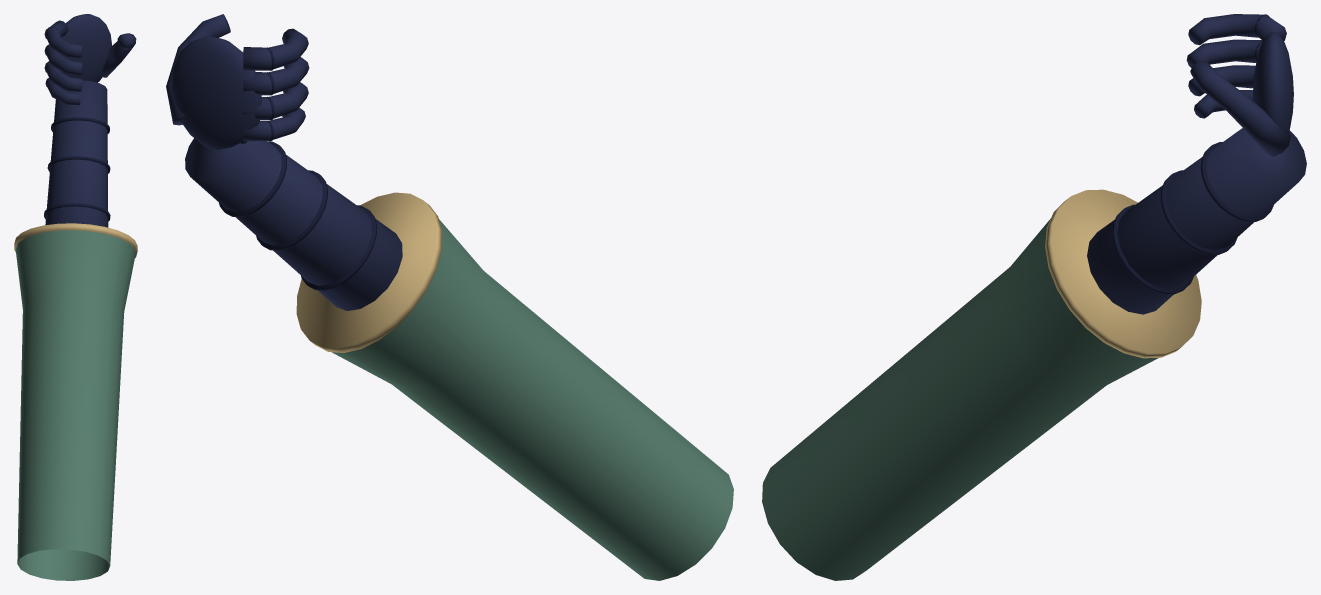
Rendered from omar_gloves.glb.
3 renders of one model, left to right at view 1: azimuth 30°, elevation 25°; view 2: azimuth 150°, elevation 25°; view 3: azimuth 270°, elevation 25°, orthographic. The views are drawn at different scales.
Visible parts, largest first — view 1: OmarGloves_Sleeve, OmarGloves_Gauntlet, OmarGloves_Palm, OmarGloves_SleeveEdge, OmarGloves_Finger0, OmarGloves_Thumb, OmarGloves_Finger1, OmarGloves_Finger2, OmarGloves_Finger3, OmarGloves_GauntletSeam2, OmarGloves_GauntletSeam1, OmarGloves_GauntletSeam0; view 2: OmarGloves_Sleeve, OmarGloves_Gauntlet, OmarGloves_SleeveEdge, OmarGloves_Palm, OmarGloves_Finger0, OmarGloves_Finger1, OmarGloves_Thumb, OmarGloves_Finger2, OmarGloves_Finger3, OmarGloves_GauntletSeam2, OmarGloves_GauntletSeam1; view 3: OmarGloves_Sleeve, OmarGloves_Gauntlet, OmarGloves_SleeveEdge, OmarGloves_Thumb, OmarGloves_Palm, OmarGloves_Finger0, OmarGloves_Finger1, OmarGloves_Finger2, OmarGloves_GauntletSeam2, OmarGloves_GauntletSeam1, OmarGloves_GauntletSeam0.
Part boxes in pixels (<box>): OmarGloves_Sleeve: <box>15,230,135,580</box>; OmarGloves_Gauntlet: <box>45,80,108,227</box>; OmarGloves_Palm: <box>61,14,111,82</box>; OmarGloves_SleeveEdge: <box>14,223,137,257</box>; OmarGloves_Finger0: <box>45,20,82,57</box>; OmarGloves_Thumb: <box>101,33,136,77</box>; OmarGloves_Finger1: <box>45,45,83,75</box>; OmarGloves_Finger2: <box>45,62,82,91</box>; OmarGloves_Finger3: <box>46,78,80,104</box>; OmarGloves_GauntletSeam2: <box>44,203,110,221</box>; OmarGloves_GauntletSeam1: <box>47,156,110,173</box>; OmarGloves_GauntletSeam0: <box>51,117,109,133</box>; OmarGloves_Sleeve: <box>332,219,733,580</box>; OmarGloves_Gauntlet: <box>185,138,402,310</box>; OmarGloves_SleeveEdge: <box>296,192,442,352</box>; OmarGloves_Palm: <box>171,36,261,149</box>; OmarGloves_Finger0: <box>243,28,308,70</box>; OmarGloves_Finger1: <box>243,57,309,95</box>; OmarGloves_Thumb: <box>166,14,230,125</box>; OmarGloves_Finger2: <box>243,82,308,119</box>; OmarGloves_Finger3: <box>243,107,305,141</box>; OmarGloves_GauntletSeam2: <box>301,205,376,290</box>; OmarGloves_GauntletSeam1: <box>256,170,327,250</box>; OmarGloves_Sleeve: <box>762,218,1158,580</box>; OmarGloves_Gauntlet: <box>1087,128,1306,314</box>; OmarGloves_SleeveEdge: <box>1045,189,1201,358</box>; OmarGloves_Thumb: <box>1190,60,1290,155</box>; OmarGloves_Palm: <box>1253,32,1293,156</box>; OmarGloves_Finger0: <box>1188,14,1286,45</box>; OmarGloves_Finger1: <box>1186,39,1261,67</box>; OmarGloves_Finger2: <box>1188,65,1255,96</box>; OmarGloves_GauntletSeam2: <box>1112,204,1193,294</box>; OmarGloves_GauntletSeam1: <box>1160,170,1237,254</box>; OmarGloves_GauntletSeam0: <box>1200,142,1273,221</box>.
Bounding box in the file's own units: 0.3328 × 0.5602 × 0.4244.
